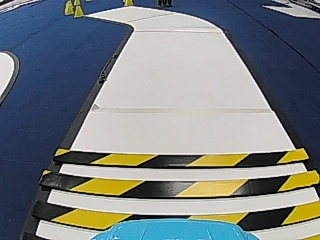bump: (67, 150, 296, 229)
